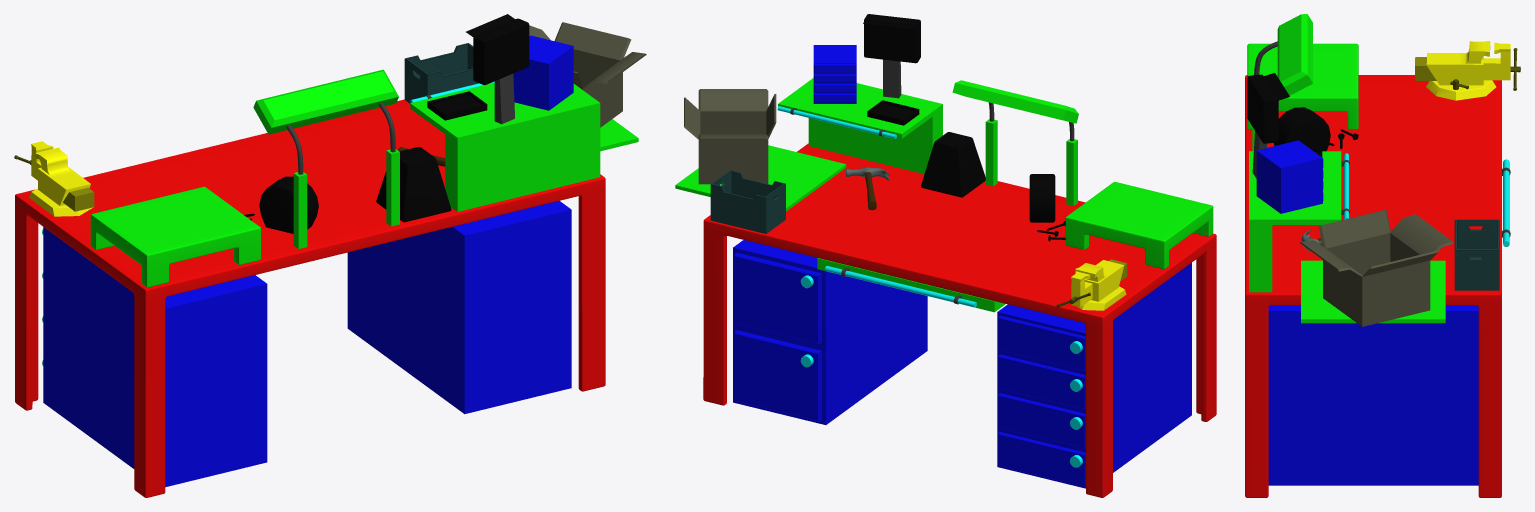
Rendered from Workbench.fbx.
The picture shows the model from 3 angles, left to right: view 1: azimuth 30°, elevation 25°; view 2: azimuth 150°, elevation 25°; view 3: azimuth 270°, elevation 25°; orthographic projection. The views are drawn at different scales.
Visible parts, largest first — view 1: Workbench; view 2: Workbench; view 3: Workbench.
Boxes of the visible parts, x1=… form: Workbench: x1=14, y1=14, x2=646, y2=497; Workbench: x1=675, y1=14, x2=1216, y2=497; Workbench: x1=1245, y1=14, x2=1520, y2=497.
Bounding box in the file's own units: 238 × 155 × 106.
